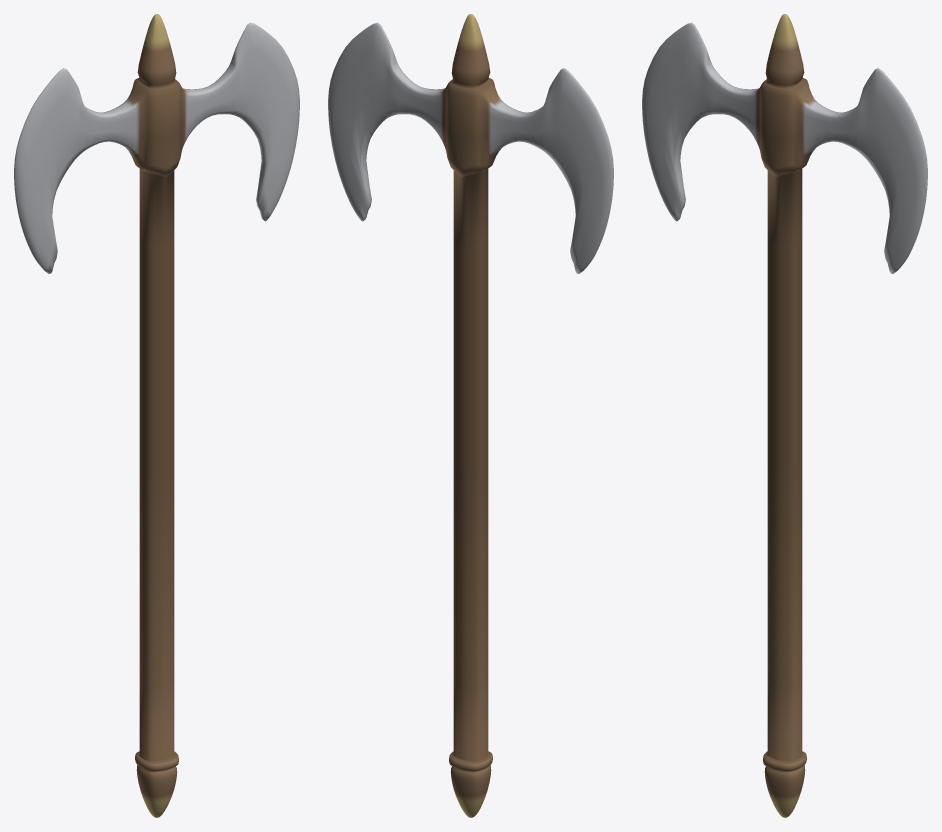
File: savas_baltasi.glb
The picture shows the model from 3 angles, left to right: view 1: azimuth 30°, elevation 25°; view 2: azimuth 150°, elevation 25°; view 3: azimuth 330°, elevation 25°; orthographic projection.
Parts seen in each view (by area): view 1: Battle_Axe; view 2: Battle_Axe; view 3: Battle_Axe.
Part boxes in pixels (box(x1,y1,x2,y2)): Battle_Axe: box(14, 14, 299, 817); Battle_Axe: box(328, 14, 613, 817); Battle_Axe: box(642, 14, 927, 817).
Size of the model in its own units: 0.547 by 1.47 by 0.0728.
